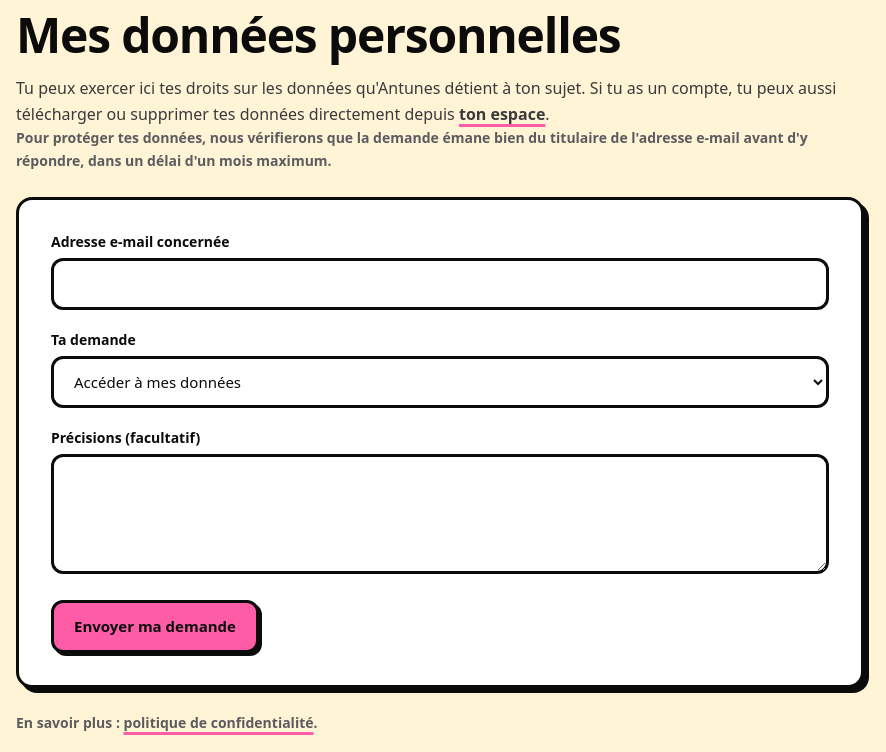
Test: PrivacyRequest › sends the request and shows its reference
Type "client@example.com" into the field labelled "Adresse e-mail concernée" at [440, 284], box [51,258,829,310]
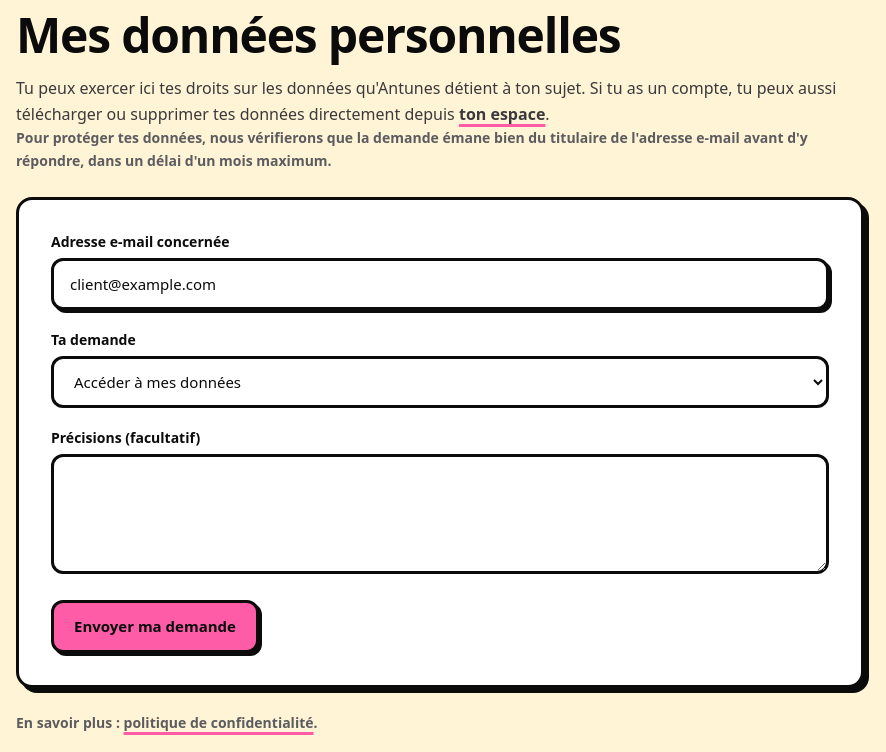
Select "Supprimer mes données" in the dropdown labelled "Ta demande" at [440, 382], box [51,356,829,408]
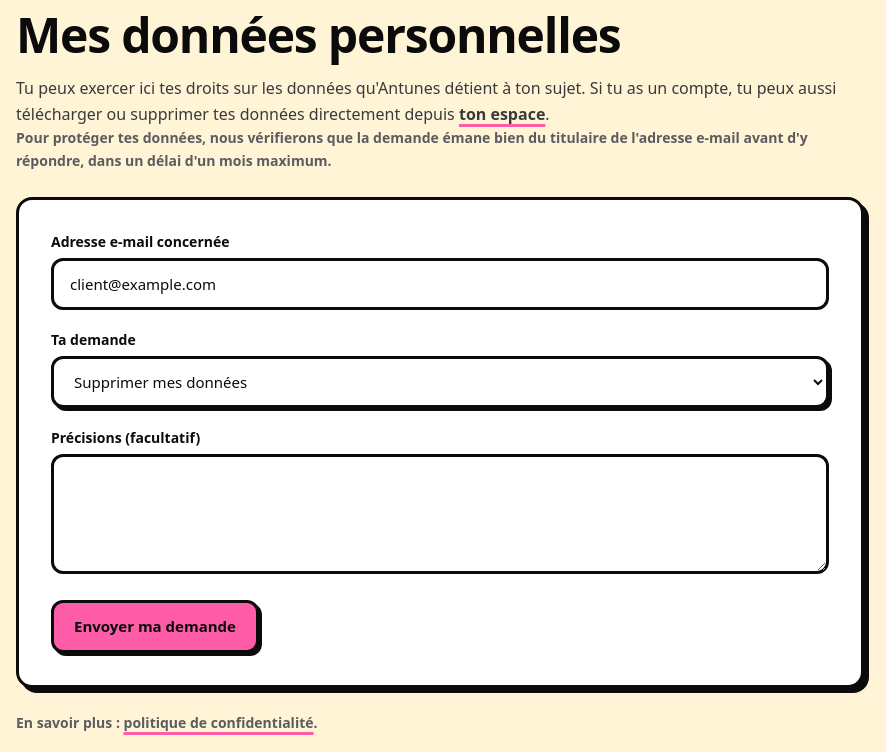
Click the button "Envoyer ma demande" at [155, 626], box [51,600,259,652]
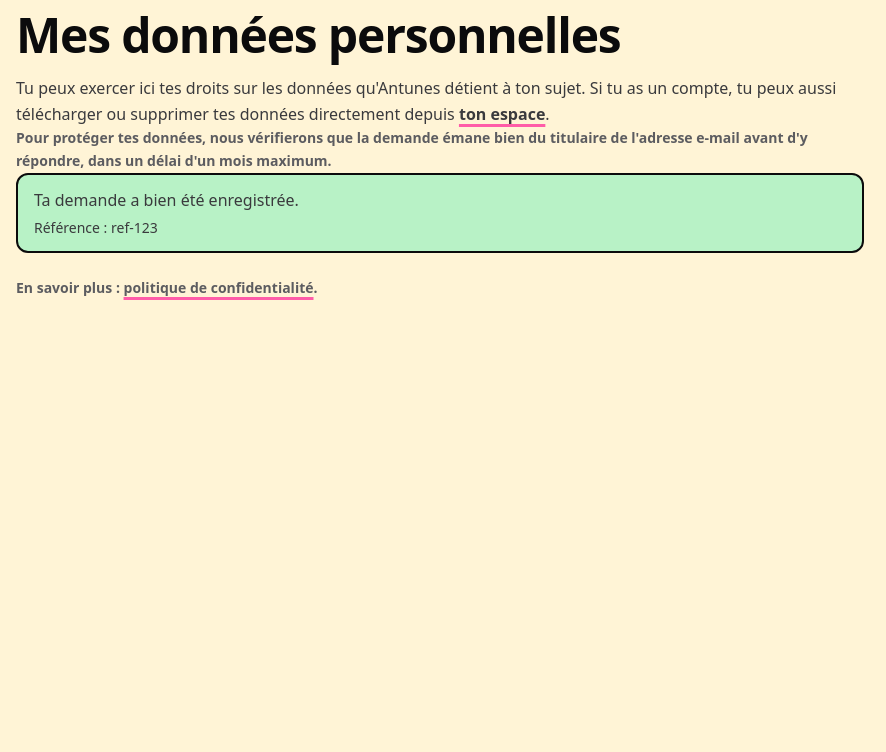
Result: the text "Ta demande a bien été enregistrée." is shown at [34,188,299,210]
Result: the text "Référence : ref-123" is shown at [34,218,158,236]
